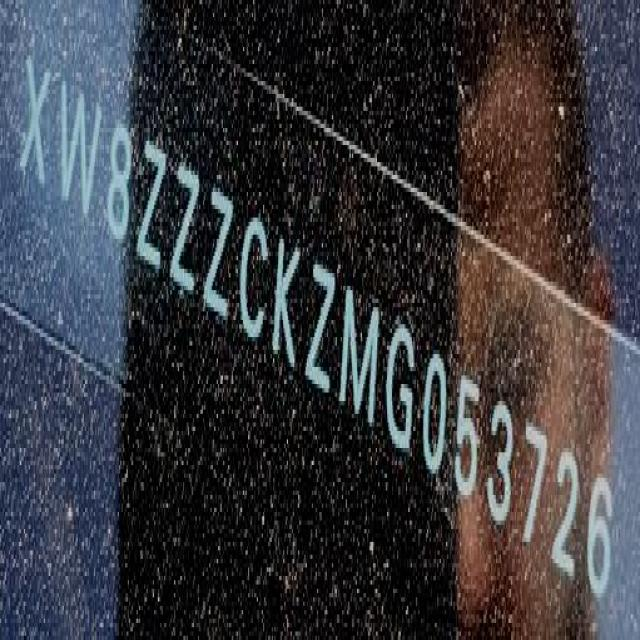0: (413, 337, 455, 492)
2: (547, 429, 590, 586)
3: (478, 379, 520, 534)
5: (446, 360, 484, 516)
6: (584, 461, 624, 605)
7: (513, 400, 554, 557)
8: (101, 108, 145, 245)
C: (231, 200, 279, 346)
G: (382, 305, 426, 465)
K: (272, 229, 302, 378)
M: (335, 269, 392, 435)
W: (50, 66, 111, 224)
X: (21, 48, 50, 190)
Z: (130, 132, 177, 281), (165, 157, 212, 304), (302, 249, 344, 406), (203, 180, 231, 321)
